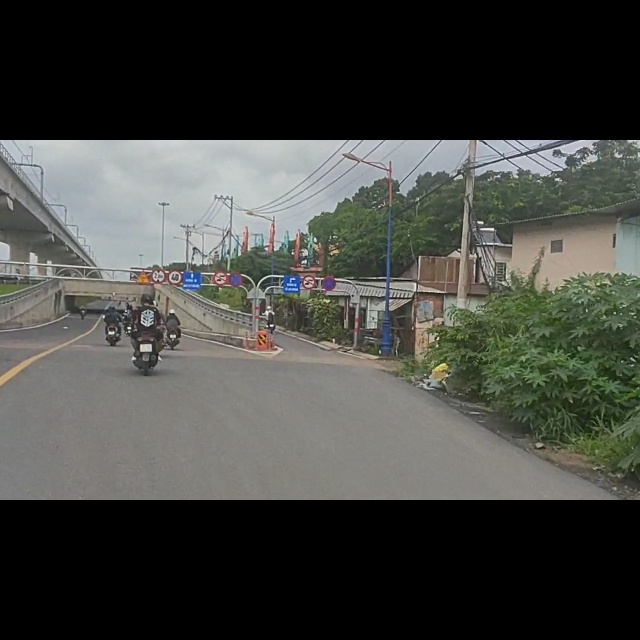bien_nguy_hiem: (135, 231, 151, 258), (168, 231, 182, 258), (213, 232, 227, 258), (229, 236, 243, 262), (301, 241, 316, 265), (152, 228, 165, 255), (323, 243, 337, 268)
